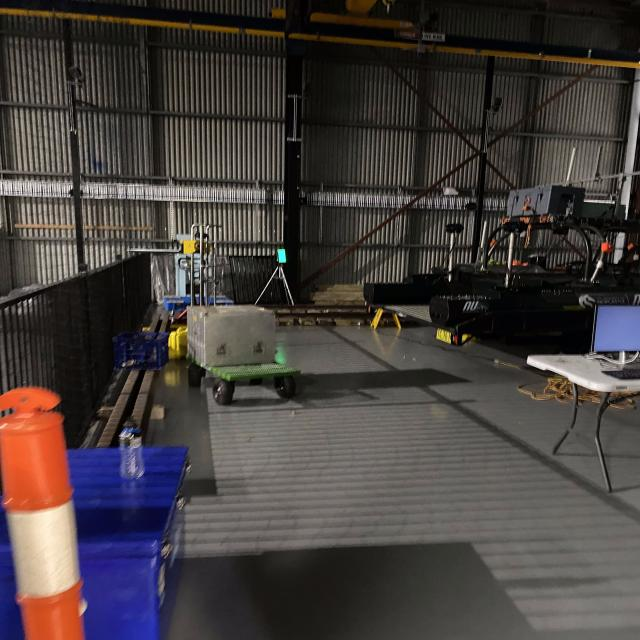matrix: (275, 248, 290, 265)
